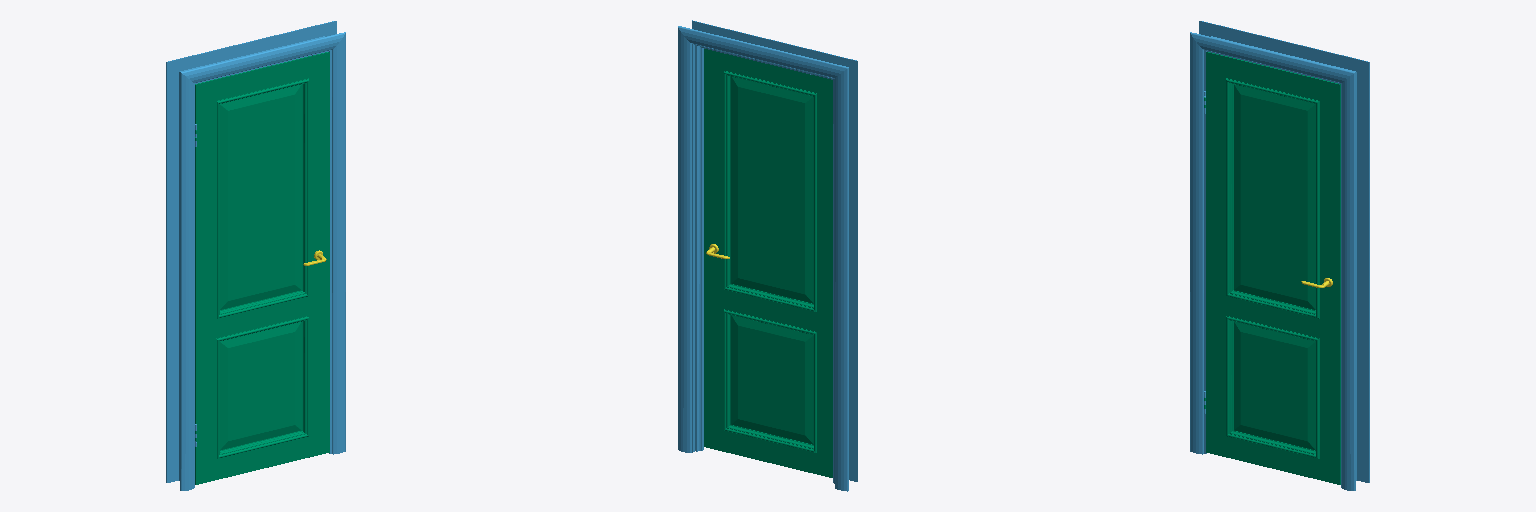
The robot description file, URDF, robot "handle_door":
<?xml version="1.0" encoding="utf-8"?>
<robot name="handle_door">
  <link name="world"/>
  
  <joint name="world_to_frame" type="fixed">
    <origin xyz="0 0 0" rpy="0 0 0"/>
    <parent link="world"/>
    <child link="frame"/>
  </joint>

  <link name="frame">
    <visual>
      <origin xyz="0 0 0" rpy="1.571 0 0"/>
      <geometry>
        <mesh filename="package://door_fixed/meshes/frame(byKevin).stl"/>
      </geometry>
    </visual>

    <collision>
      <origin xyz="0 0 0" rpy="1.571 0 0"/>
      <geometry>
        <mesh filename="package://door_fixed/meshes/frame(byKevin).stl"/>
      </geometry>
    </collision>

    <inertial>
      <origin xyz=".3 0 1" rpy="0 0 0"/>
      <mass value="1"/>
      <inertia ixx="1.0" ixy="0.0" ixz="0.0" iyy="1.0" iyz="0.0" izz="1.0"/>
    </inertial>
  </link>

  <joint name="hinge_joint" type="revolute">
    <origin xyz="0.07850 -0.00673 0.23370" rpy="0 0 0"/>
    <parent link="frame"/>
    <child link="door"/>
    <axis xyz="0 0 1"/>
    <limit velocity="10" effort="100" lower="-1.5" upper="0"/>
    <dynamics damping="0.7"/>
  </joint>

  <link name="door">
    <visual>
      <origin xyz="0 0 0" rpy="0 0 0"/>
      <geometry>
        <mesh filename="package://door_fixed/meshes/door.stl"/>
      </geometry>
    </visual>

    <collision>
      <origin xyz="0 0 0" rpy="0 0 0"/>
      <geometry>
        <mesh filename="package://door_fixed/meshes/door.stl"/>
      </geometry>
    </collision>

    <inertial>
      <origin xyz=".3 0 1" rpy="0 0 0"/>
      <mass value="15"/>
      <inertia ixx="1.0" ixy="0.0" ixz="0.0" iyy="1.0" iyz="0.0" izz="1.0"/>
    </inertial>
  </link>

  <joint name="handle_joint" type="revolute">
    <origin xyz="0.64207 0.00673 0.77630" rpy="0 0 0"/>
    <parent link="door"/>
    <child link="handle"/>
    <axis xyz="0 -1 0"/>
    <limit velocity="10" effort="100" lower="0" upper="1.15"/>
    <dynamics damping="0.7"/>
  </joint>

  <link name="handle">
    <visual>
      <origin xyz="0 0 0" rpy="0 0 0"/>
      <geometry>
        <mesh filename="package://door_fixed/meshes/handle.stl"/>
      </geometry>
      <dynamics>
        <spring_stiffness>15</spring_stiffness>
        <spring_reference>0.06</spring_reference>
        <damping>0.5</damping>
      </dynamics>
    </visual>

    <collision>
      <origin xyz="0 0 0" rpy="0 0 0"/>
      <geometry>
        <mesh filename="package://door_fixed/meshes/handle.stl"/>
      </geometry>
    </collision>

    <inertial>
      <origin xyz="0 0 0" rpy="0 0 0"/>
      <mass value=".5"/>
      <inertia ixx="1.0" ixy="0.0" ixz="0.0" iyy="1.0" iyz="0.0" izz="1.0"/>
    </inertial>
  </link>
  
  <joint name="latch_joint" type="prismatic">
    <origin xyz="0.69829 0.02101 0.78344" rpy="0 0 0"/>
    <parent link="door"/>
    <child link="latch"/>
    <axis xyz="-1 0 0"/>
    <limit velocity="10" effort="100" lower="-1" upper="1"/>
    <dynamics damping="0.7"/>
    <mimic joint="handle_joint" multiplier="0.01" offset="0.002"/>
  </joint>

  <link name="latch">
    <visual>
      <origin xyz="0 0 0" rpy="0 0 0"/>
      <geometry>
        <mesh filename="package://door_fixed/meshes/latch.stl"/>
      </geometry>
    </visual>

    <collision>
      <origin xyz="0 0 0" rpy="0 0 0"/>
      <geometry>
        <mesh filename="package://door_fixed/meshes/latch.stl"/>
      </geometry>
    </collision>

    <inertial>
      <origin xyz="0 0 0" rpy="0 0 0"/>
      <mass value=".1"/>
      <inertia ixx="1.0" ixy="0.0" ixz="0.0" iyy="1.0" iyz="0.0" izz="1.0"/>
    </inertial>
  </link>

  <gazebo reference="door">
    <mu1>0.2</mu1>
    <mu2>0.2</mu2>
    <material>Gazebo/Green</material>
    <selfCollide>True</selfCollide>
  </gazebo>

  <gazebo reference="latch">
    <mu1>0.2</mu1>
    <mu2>0.2</mu2>
    <material>Gazebo/Red</material>
    <selfCollide>True</selfCollide>
  </gazebo>

  <gazebo reference="frame">
    <mu1>0.2</mu1>
    <mu2>0.2</mu2>
    <material>Gazebo/Blue</material>
    <selfCollide>True</selfCollide>
  </gazebo>

  <gazebo reference="latch_joint">
      <implicitSpringDamper>True</implicitSpringDamper>
      <springStiffness>1</springStiffness>
      <springReference>0</springReference>
      <cfmDamping>1</cfmDamping>
  </gazebo>

  <gazebo reference="handle_joint">
      <implicitSpringDamper>True</implicitSpringDamper>
      <springStiffness>1</springStiffness>
      <springReference>0</springReference>
      <cfmDamping>1</cfmDamping>
  </gazebo>
    
  <gazebo reference="hinge_joint">
      <implicitSpringDamper>True</implicitSpringDamper>
      <springStiffness>1</springStiffness>
      <springReference>0</springReference>
      <cfmDamping>1</cfmDamping>
  </gazebo>  

  <gazebo>
    <plugin name="gazebo_ros_control" filename="libgazebo_ros_control.so">
      <robotNamespace>/door_fixed</robotNamespace>
      <robotSimType>gazebo_ros_control/DefaultRobotHWSim</robotSimType>
    </plugin>
  </gazebo>

  <transmission name="tran1">
    <type>transmission_interface/SimpleTransmission</type>
    <joint name="hinge_joint">
      <hardwareInterface>hardware_interface/PositionJointInterface</hardwareInterface>
    </joint>
    <actuator name="motor1">
      <hardwareInterface>hardware_interface/PositionJointInterface</hardwareInterface>
      <mechanicalReduction>1</mechanicalReduction>
    </actuator>
  </transmission>

  <transmission name="tran2">
    <type>transmission_interface/SimpleTransmission</type>
    <joint name="handle_joint">
      <hardwareInterface>hardware_interface/PositionJointInterface</hardwareInterface>
    </joint>
    <actuator name="motor2">
      <hardwareInterface>hardware_interface/PositionJointInterface</hardwareInterface>
      <mechanicalReduction>1</mechanicalReduction>
    </actuator>
  </transmission>

  <gazebo>
    <!-- loading plugin: mimic joints works in gazebo now -->
    <plugin name="gazebo_latch_ros_control" filename="libroboticsgroup_upatras_gazebo_mimic_joint_plugin.so">
      <robotNamespace>/door_fixed</robotNamespace>
      <joint>handle_joint</joint>
      <mimicJoint>latch_joint</mimicJoint>
      <multiplier>0.01</multiplier>
      <offset>0.002</offset>
    </plugin>
  </gazebo>

</robot>

--- Render facts (derived) ---
3 views of the same robot in one strip: view 1: azimuth 30°, elevation 25°; view 2: azimuth 150°, elevation 25°; view 3: azimuth 330°, elevation 25° (orthographic).
Robot: handle_door — 5 links, 4 joints (2 revolute, 1 prismatic, 1 fixed); root link world; default pose: every joint at zero.
Links seen in each view (by area): view 1: door, frame; view 2: door, frame; view 3: door, frame.
Link boxes in pixels (<box>): door: <box>195,52,329,484</box>; frame: <box>166,21,345,490</box>; door: <box>704,49,832,477</box>; frame: <box>678,20,857,491</box>; door: <box>1204,52,1340,484</box>; frame: <box>1190,21,1369,490</box>.
Bounding box of the posed robot: 0.887 × 0.186 × 2.1 m (x, y, z).
Meshes: 4 distinct files referenced, 4 mesh visuals loaded (4 binary STL).
